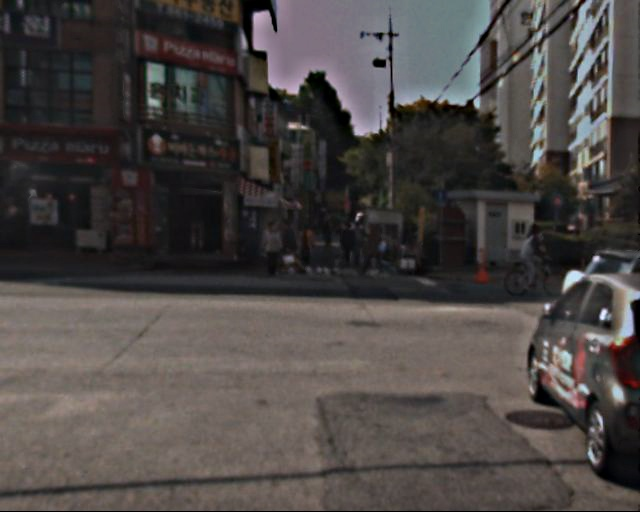person: (281, 215, 305, 274), (524, 228, 548, 287), (364, 222, 386, 275), (265, 221, 286, 271), (298, 218, 319, 268), (352, 219, 371, 265), (342, 218, 360, 263), (383, 234, 400, 276), (324, 210, 338, 245)
